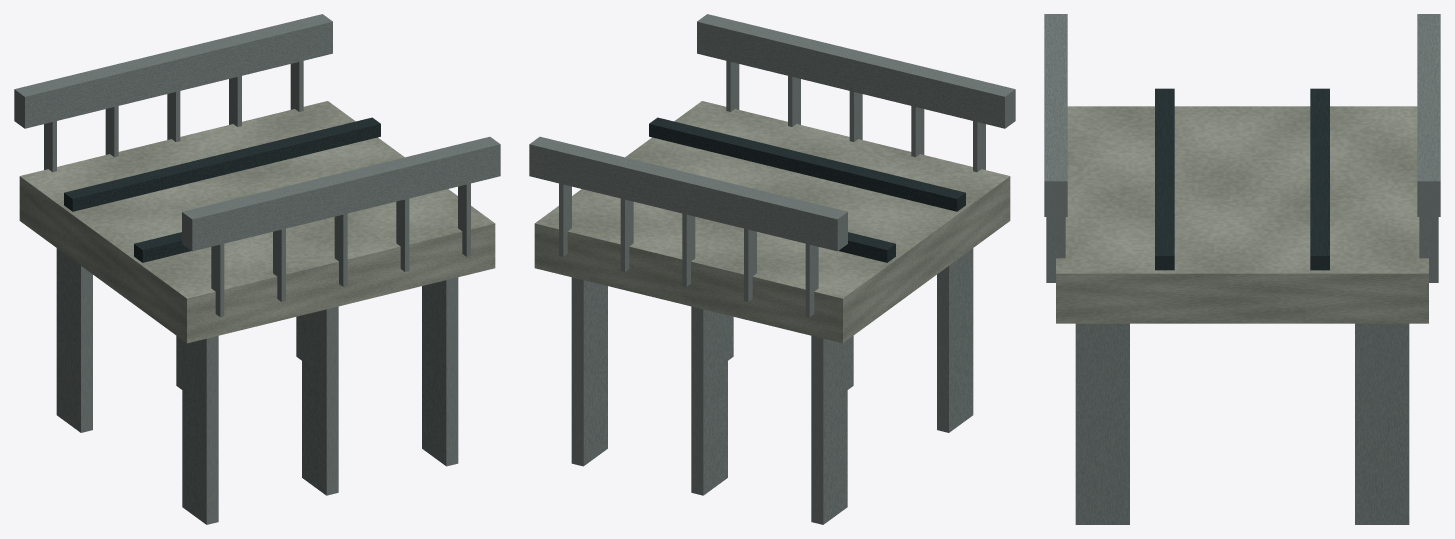
Rendered from city_concourse_01.fbx.
3 views of the same model, side by side, from view 1: azimuth 30°, elevation 25°; view 2: azimuth 150°, elevation 25°; view 3: azimuth 270°, elevation 25° (orthographic). The views are drawn at different scales.
Parts seen in each view (by area): view 1: city_concourse_01_LOD0; view 2: city_concourse_01_LOD0; view 3: city_concourse_01_LOD0.
Part boxes in pixels (bbox=[...]): city_concourse_01_LOD0: bbox=[14, 14, 500, 524]; city_concourse_01_LOD0: bbox=[529, 14, 1015, 524]; city_concourse_01_LOD0: bbox=[1044, 14, 1440, 524].
Size of what is drawn, in the model's own units: 1 by 1 by 1.
